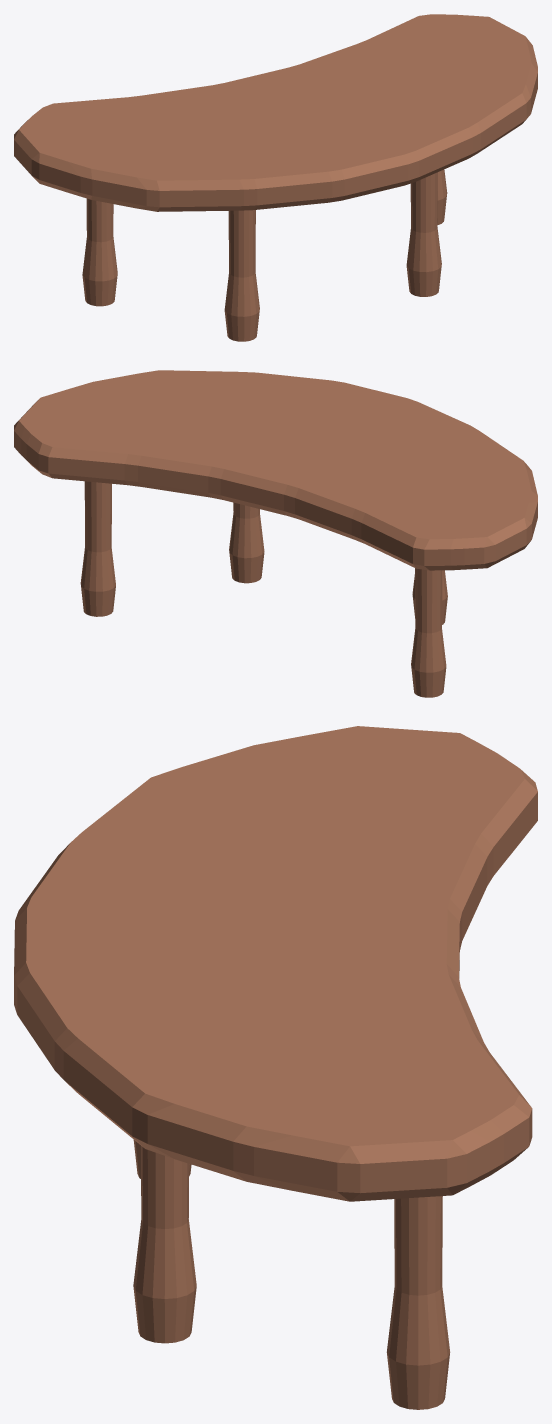
Rendered from Livingroom_Coffeetable2.fbx.
3 views of the same model, one above another, from view 1: azimuth 30°, elevation 25°; view 2: azimuth 150°, elevation 25°; view 3: azimuth 270°, elevation 25° (orthographic). The views are drawn at different scales.
Parts seen in each view (by area): view 1: Livingroom_Coffeetable2; view 2: Livingroom_Coffeetable2; view 3: Livingroom_Coffeetable2.
Part boxes in pixels (box(x1,y1,x2,y2)): Livingroom_Coffeetable2: box(14, 14, 537, 341); Livingroom_Coffeetable2: box(14, 370, 537, 697); Livingroom_Coffeetable2: box(14, 726, 537, 1409).
Bounding box in the file's own units: 50.22 × 33.74 × 97.37.
